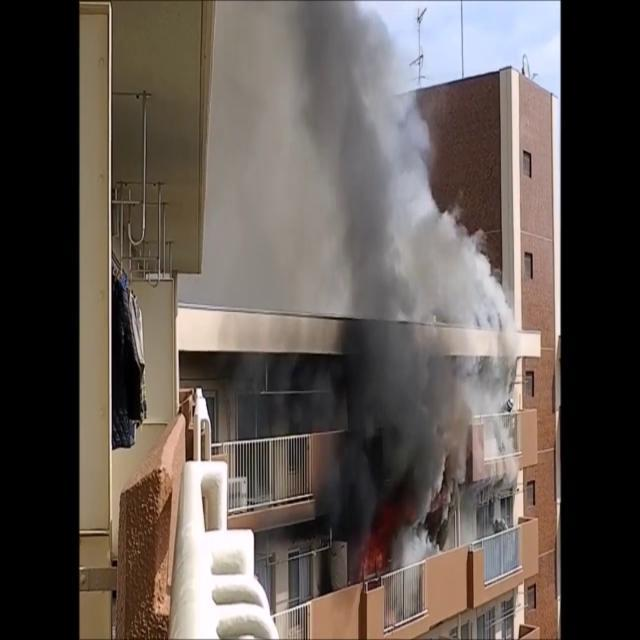Smoke: (208, 0, 517, 533)
